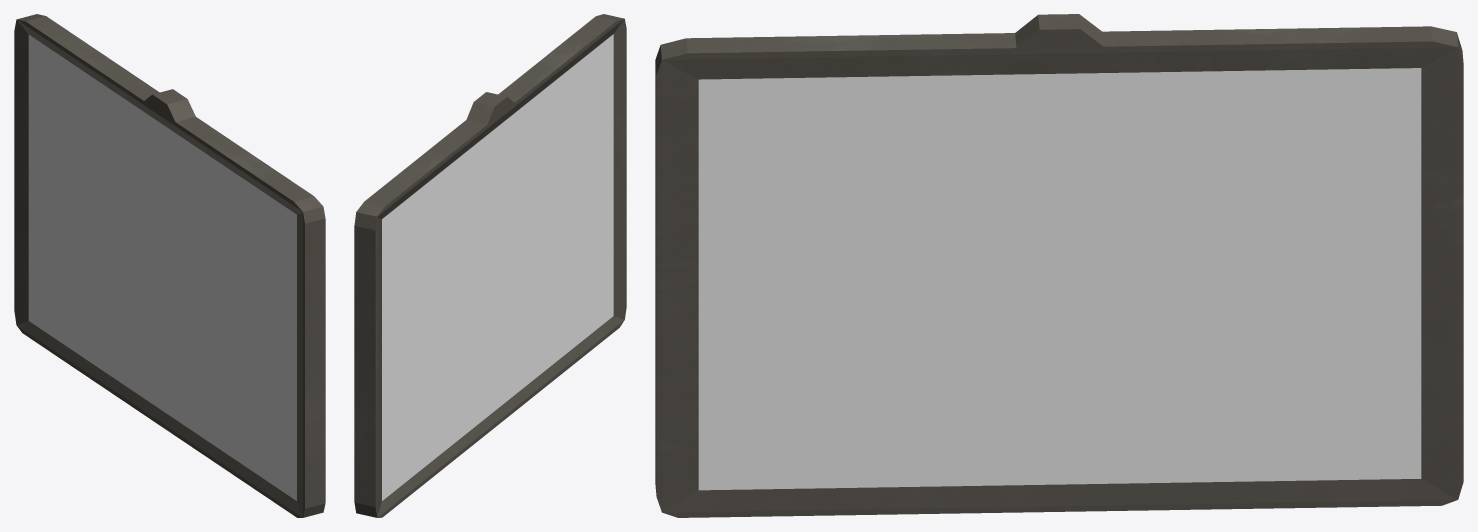
The model's file is board_lo.fbx.
3 renders of one model, left to right at view 1: azimuth 30°, elevation 25°; view 2: azimuth 150°, elevation 25°; view 3: azimuth 270°, elevation 25°, orthographic. The views are drawn at different scales.
Parts seen in each view (by area): view 1: board; view 2: board; view 3: board.
Boxes of the visible parts, x1=… form: board: x1=14, y1=14, x2=325, y2=517; board: x1=354, y1=14, x2=626, y2=517; board: x1=655, y1=14, x2=1463, y2=517.
Bounding box in the file's own units: 12.11 × 97.39 × 148.
Materials: 1 (1 with a texture image).
